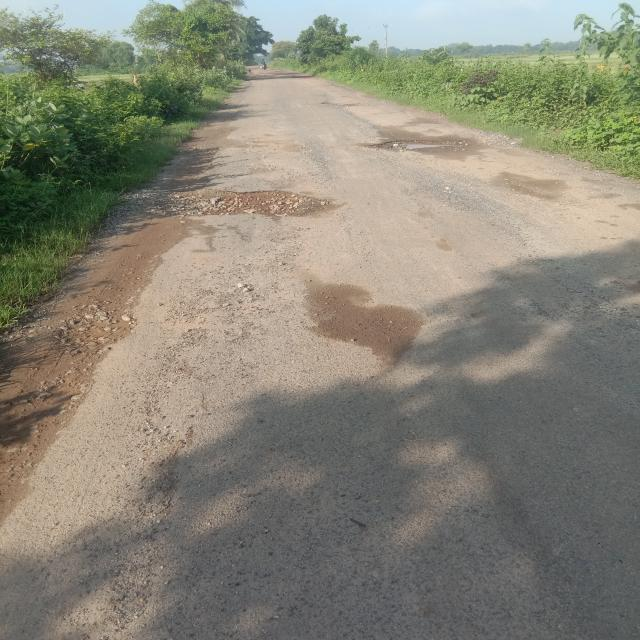potholes: (154, 188, 346, 229), (361, 135, 478, 156)
